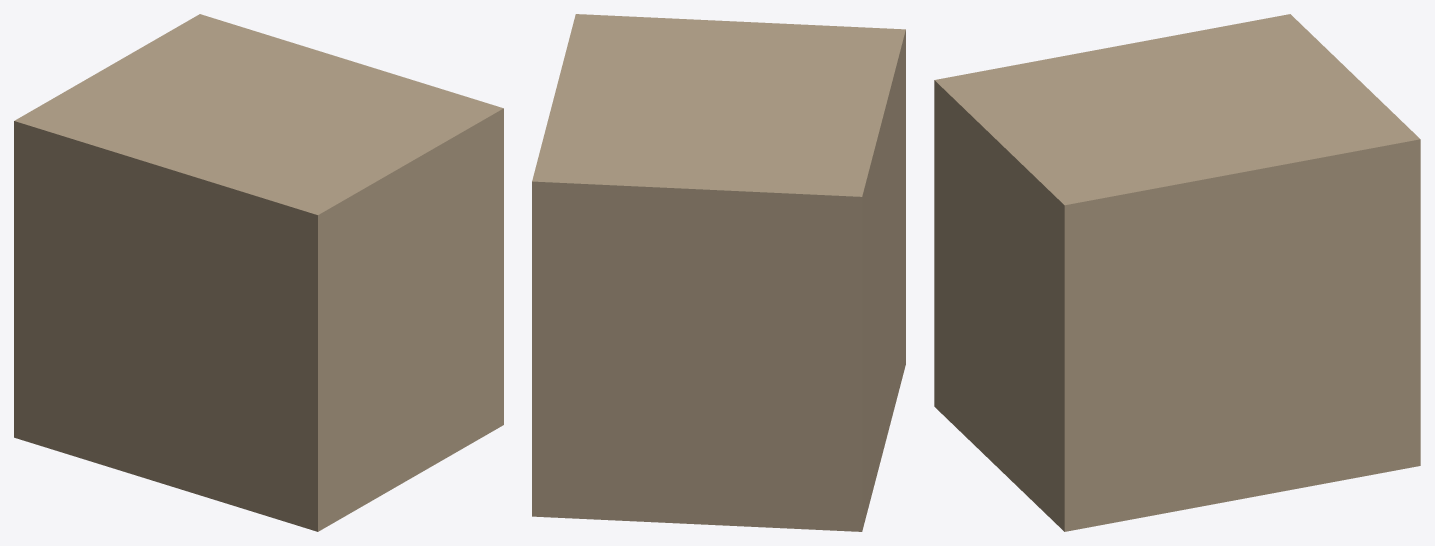
The model's file is bld_107639042.dae.
3 views of the same model, side by side, from view 1: azimuth 30°, elevation 25°; view 2: azimuth 150°, elevation 25°; view 3: azimuth 270°, elevation 25° (orthographic). The views are drawn at different scales.
Visible parts, largest first — view 1: bld_107639042; view 2: bld_107639042; view 3: bld_107639042.
Boxes of the visible parts, box(x1,y1,x2,y2) form: bld_107639042: box(14, 14, 503, 531); bld_107639042: box(532, 14, 905, 531); bld_107639042: box(934, 14, 1420, 531).
Size of the model in its own units: 10.05 by 10.79 by 8.
